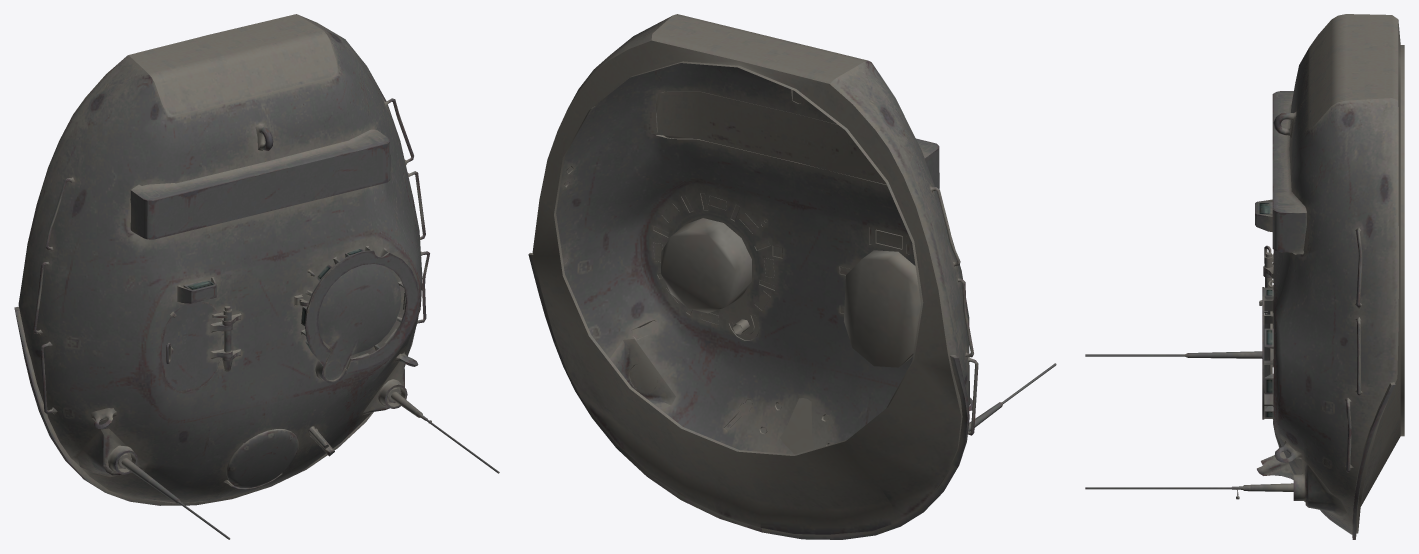
The model's file is Turret_02.glb.
3 renders of one model, left to right at view 1: azimuth 30°, elevation 25°; view 2: azimuth 150°, elevation 25°; view 3: azimuth 270°, elevation 25°, orthographic. The views are drawn at different scales.
Parts seen in each view (by area): view 1: set_0_group_0; view 2: set_0_group_0; view 3: set_0_group_0.
Boxes of the visible parts, <box> form: set_0_group_0: <box>14,14,499,539</box>; set_0_group_0: <box>528,14,1056,539</box>; set_0_group_0: <box>1085,14,1404,539</box>.
Bounding box in the file's own units: 2.72 × 2.97 × 1.88.
1 material, 1 textured.
